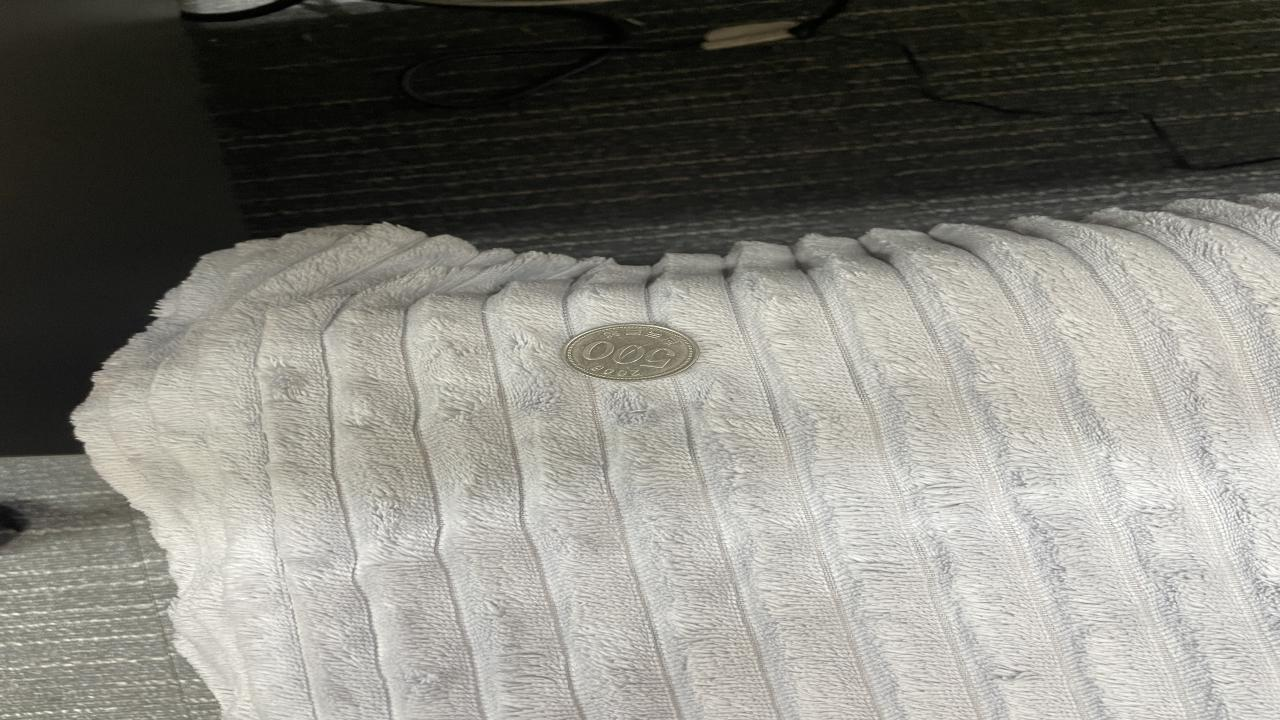coin: (563, 323, 707, 383)
